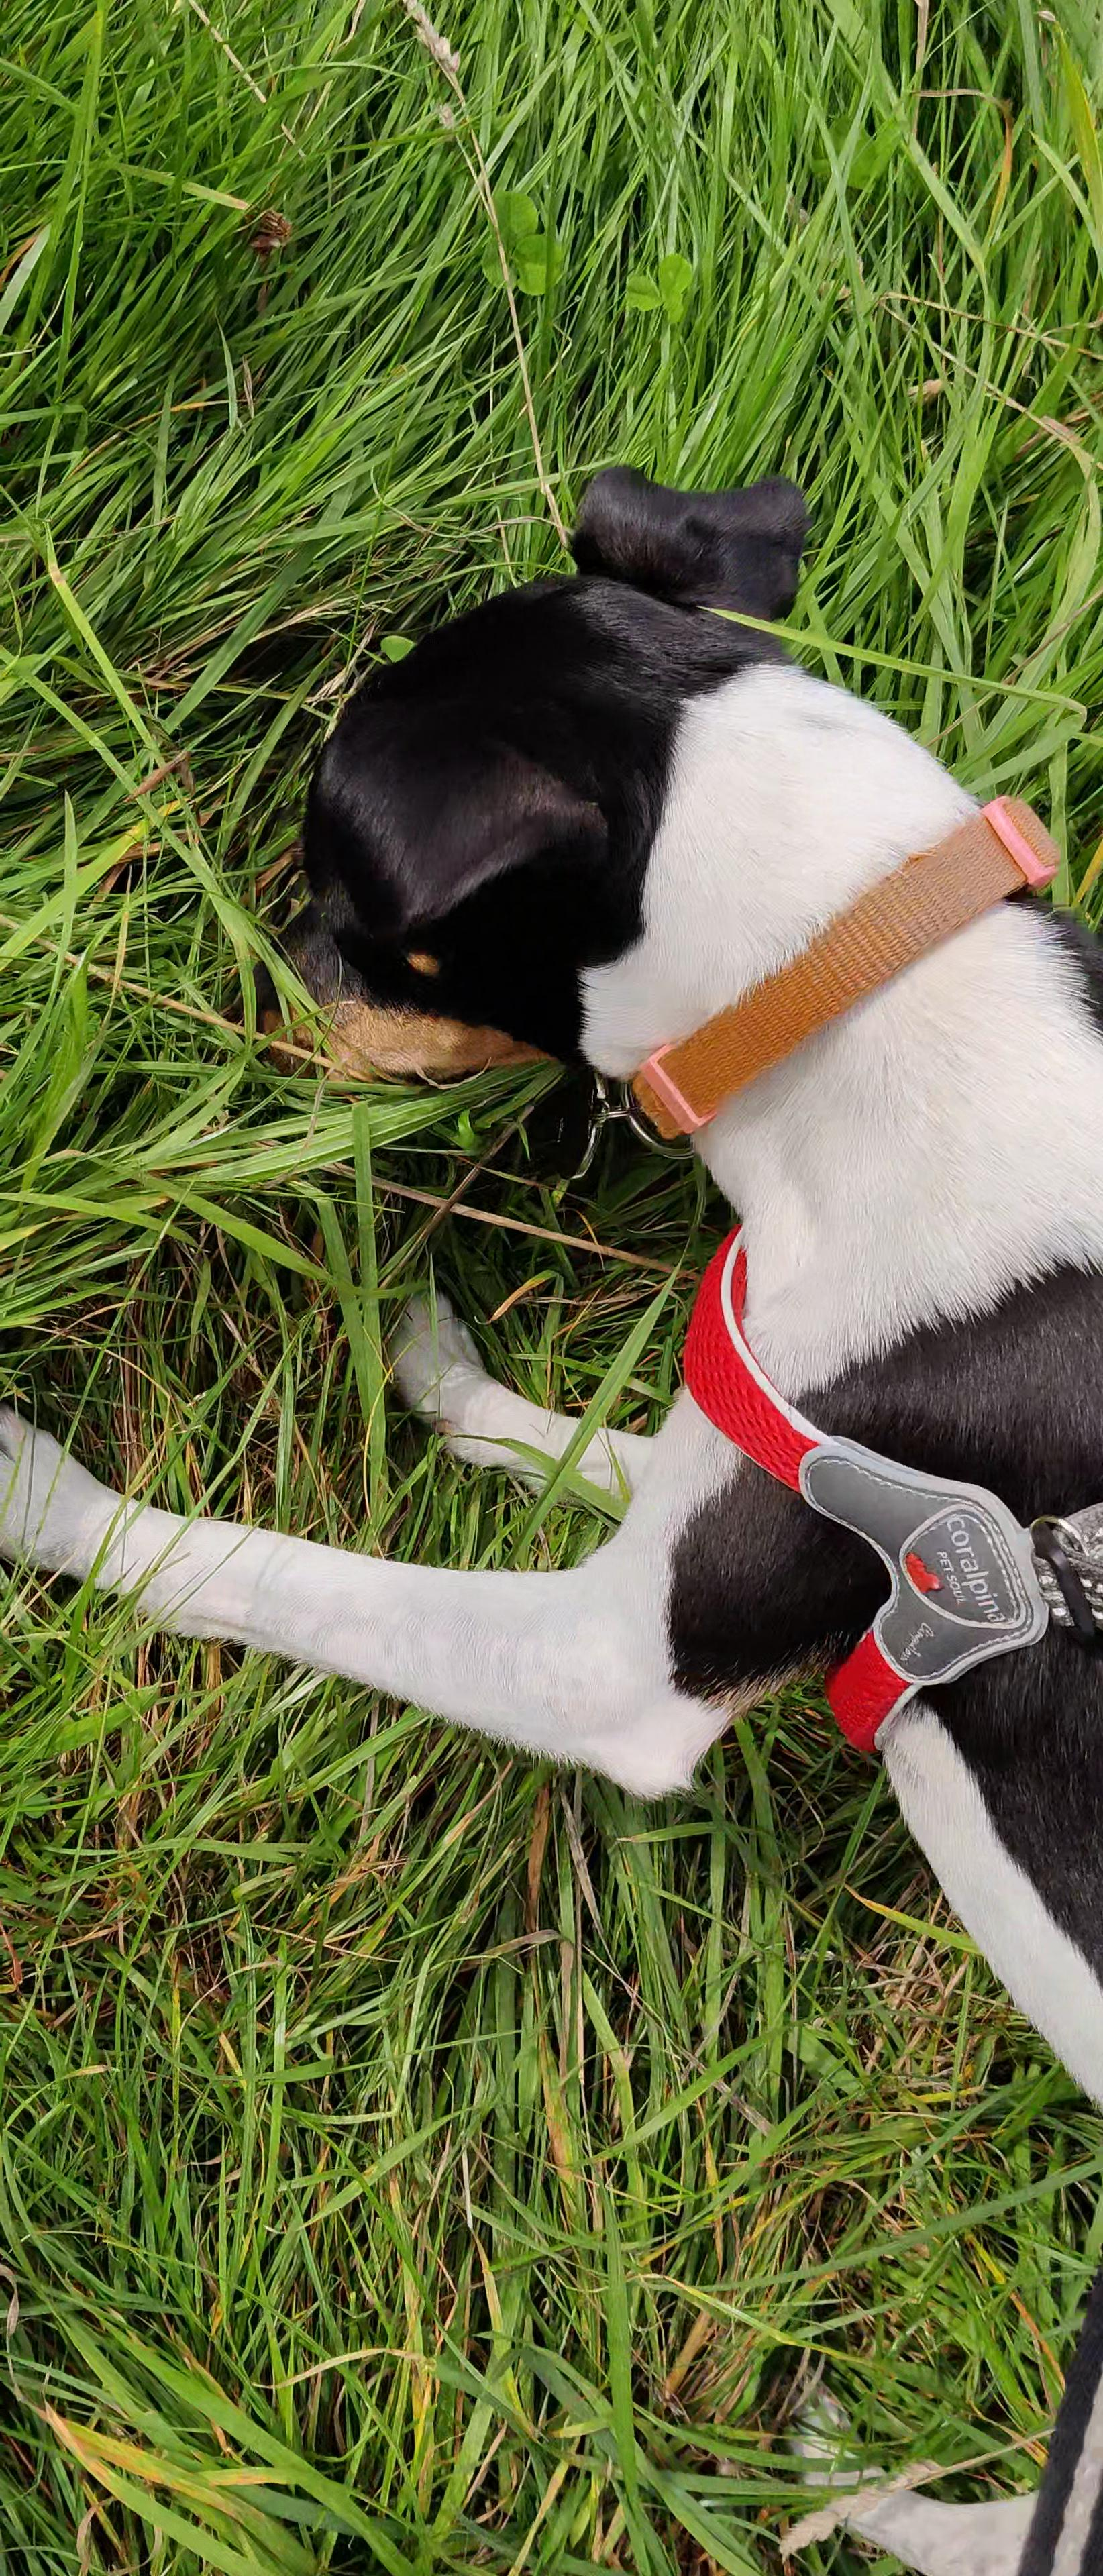Dog: (0, 440, 1103, 2576)
